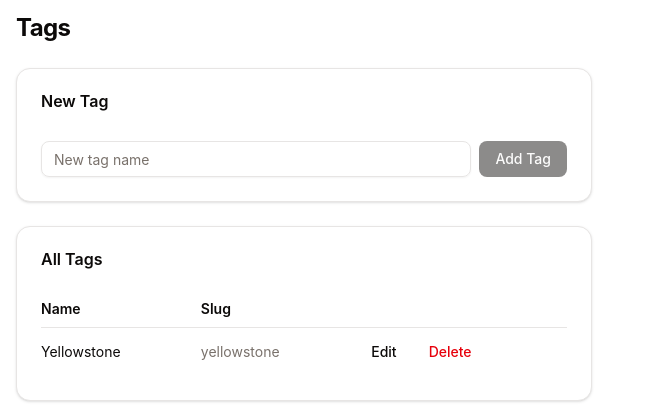
Test: TagsPage › shows inline confirmation when Delete is clicked
Click the button with aria-label "Delete Yellowstone": [450, 352] box [417, 336, 484, 368]
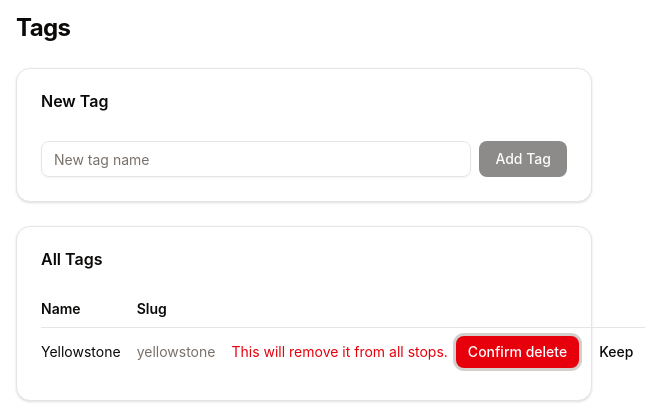
Expected: the text "This will remove it from all stops." is shown, [232, 342, 448, 362]
Expected: the button "Confirm delete" is shown, [456, 336, 579, 368]
Expected: the button "Keep" is shown, [587, 336, 645, 368]
